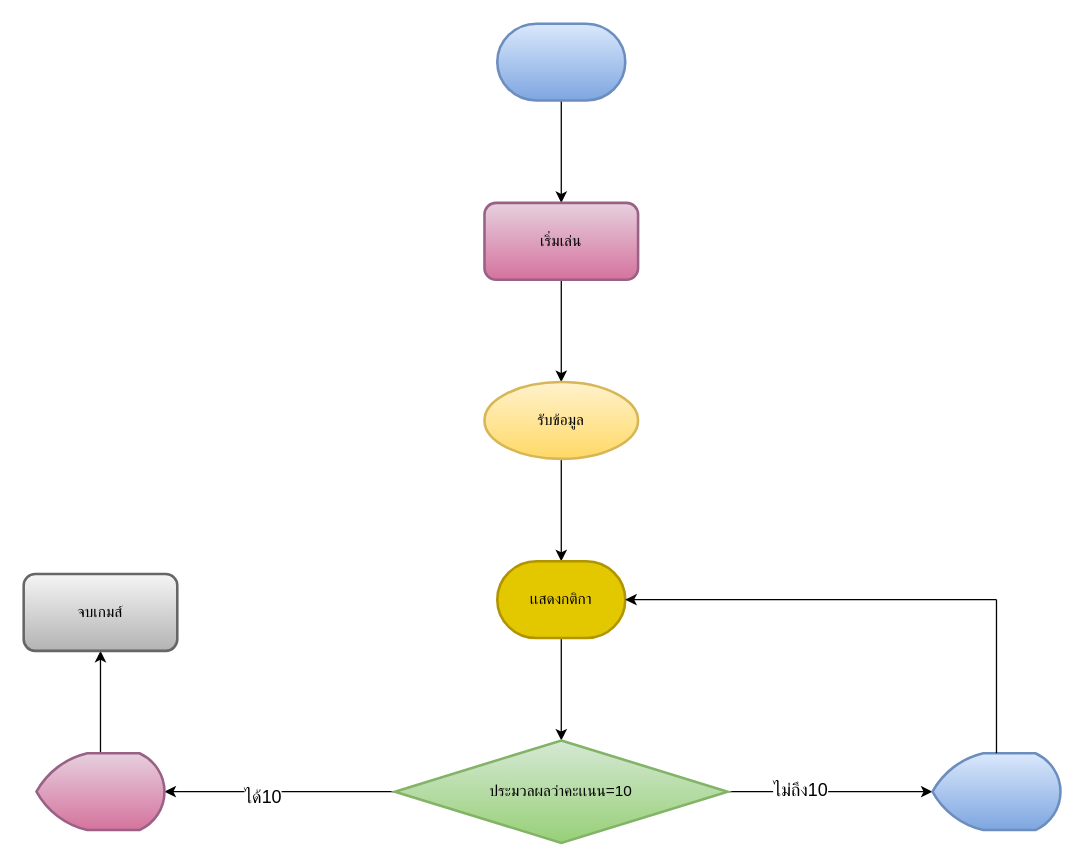
Some shapes in this 1083 by 865 pixel diagram are drawn without their labels. The box of each missing label's shape, as (x1, y1, x2, y2) in pixels:
ชนะ: (35, 751, 165, 831)
เริ่ม: (495, 22, 626, 101)
เเพ้: (931, 751, 1061, 831)
